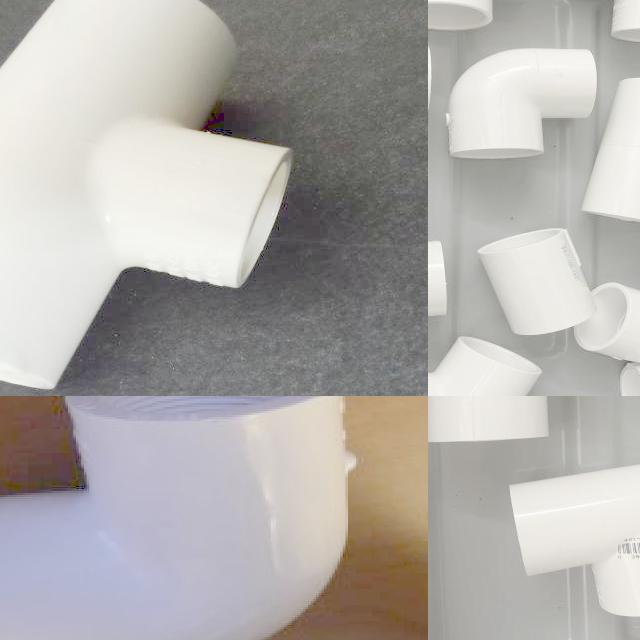L Joint: (448, 49, 600, 164), (428, 337, 543, 396), (428, 396, 550, 446)
T Joint: (508, 464, 640, 620), (580, 78, 640, 223)
